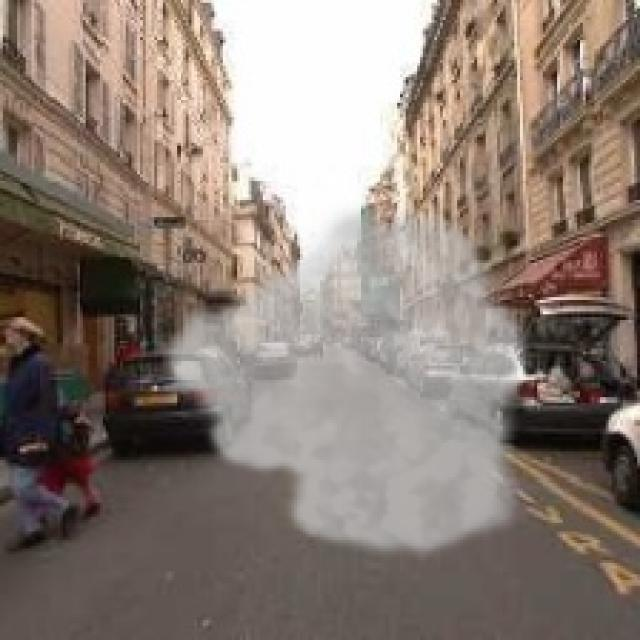Smoke: (155, 197, 534, 563)
